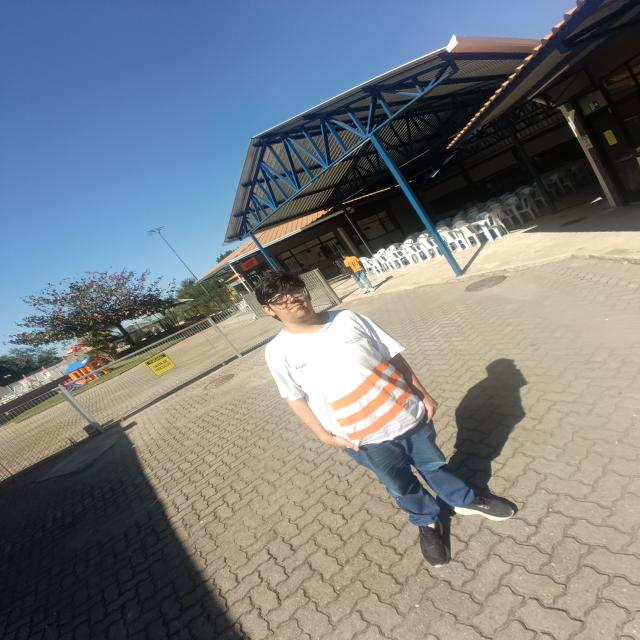oculos-epi: (267, 287, 308, 309)
